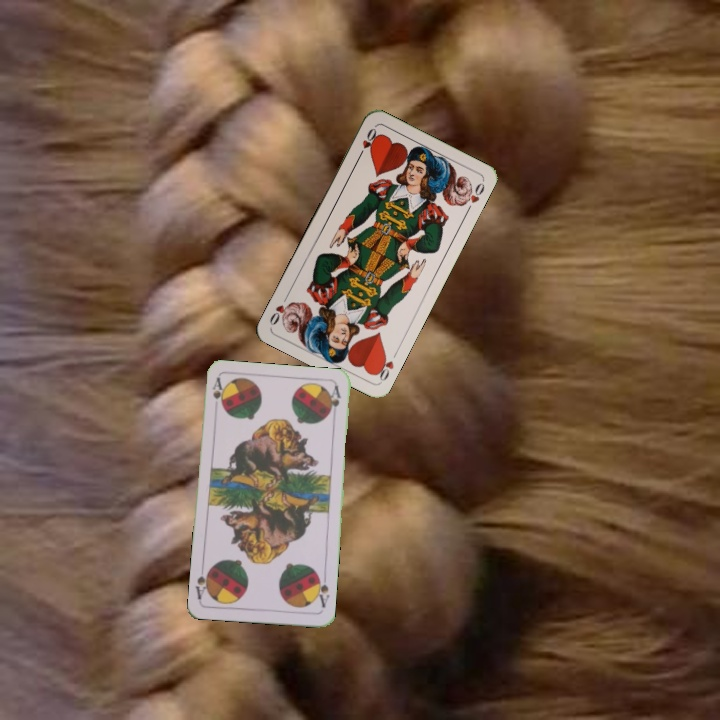HO: (354, 124, 380, 161), (371, 351, 396, 384)
SA: (312, 571, 332, 610), (208, 374, 226, 415)
